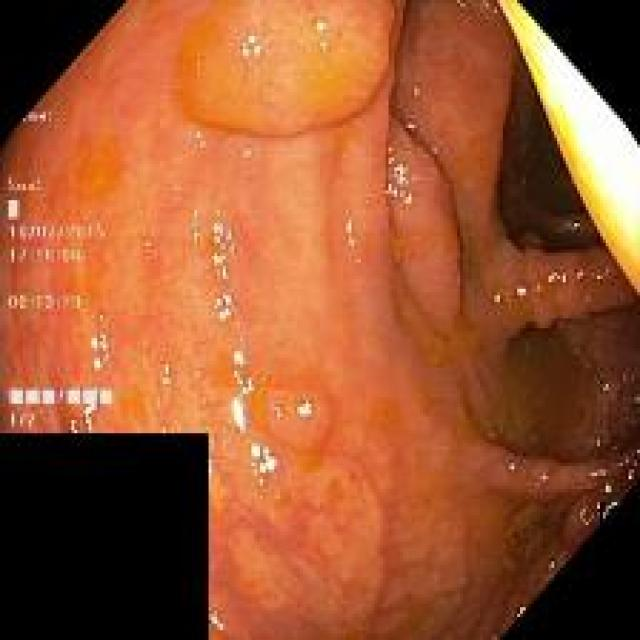Polyps: (176, 3, 395, 136), (386, 116, 461, 337), (254, 376, 334, 451)
